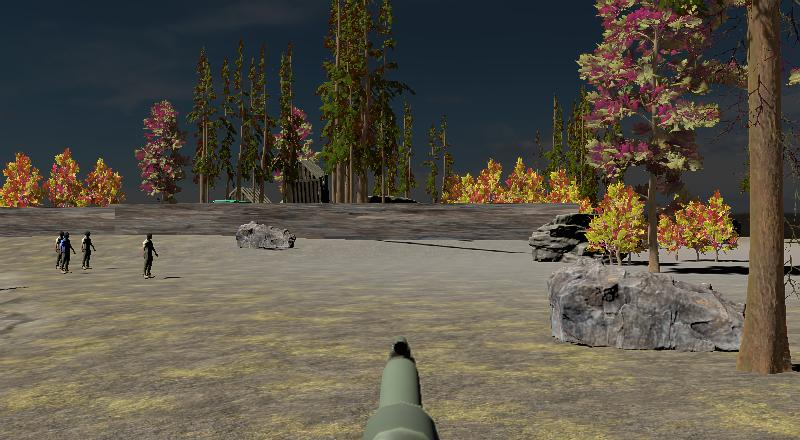House: (282, 156, 331, 207)
Human: (140, 230, 160, 280), (58, 231, 77, 275), (79, 229, 98, 271)
